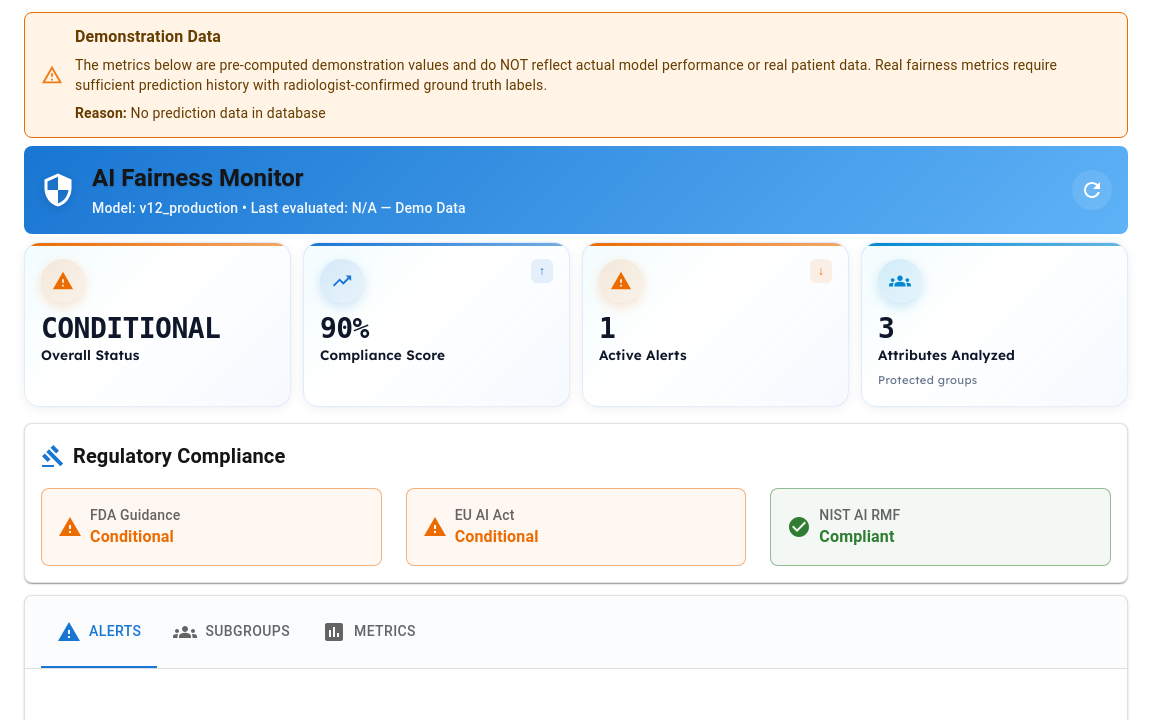
it: FairnessDashboard — Demo Fallback Data › renders all 3 protected attributes in Subgroups tab
The image size is (1152, 720).
Expected: the heading "AI Fairness Monitor" is shown, [92,164,304,192]
Note: Click Subgroups tab
Step 1. Click the tab "Subgroups" → (232, 632), box [158,596,306,668]
(page scrolled)
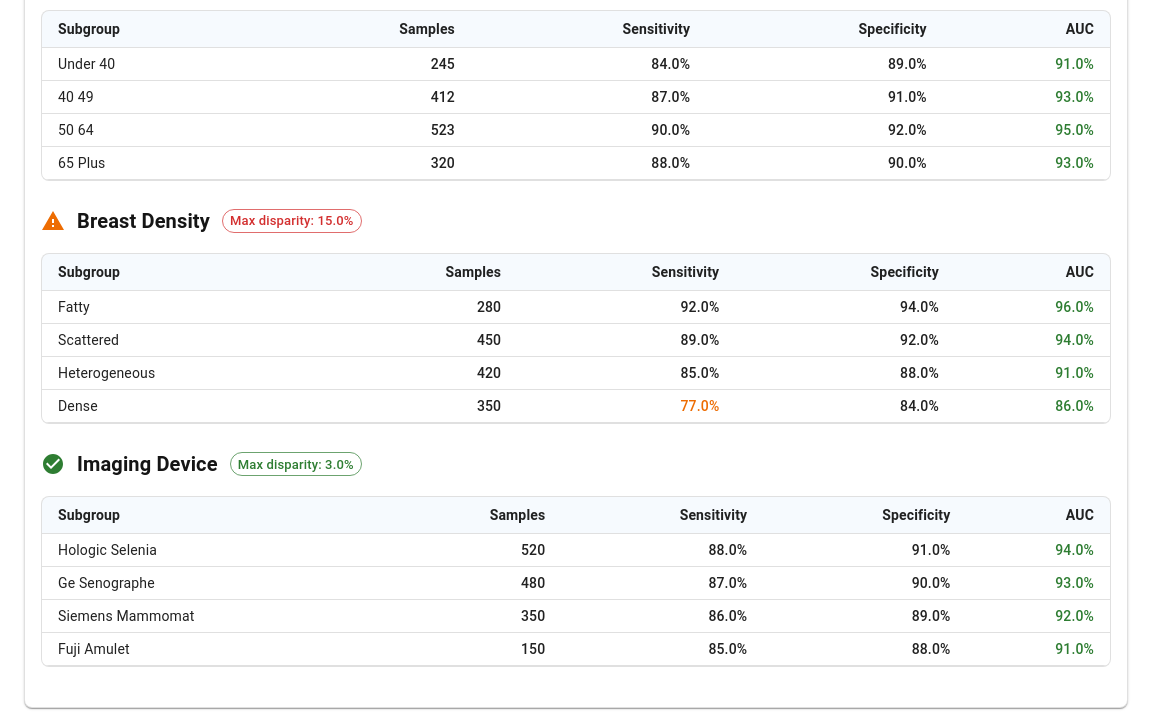
Expected: the heading "breast density" is shown, [77,205,210,237]
Result: the heading "imaging device" is shown at [77,448,218,480]
